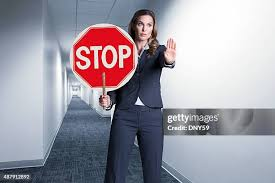stop sign: (72, 25, 135, 87)
